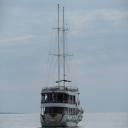cruises: (41, 85, 85, 128)
